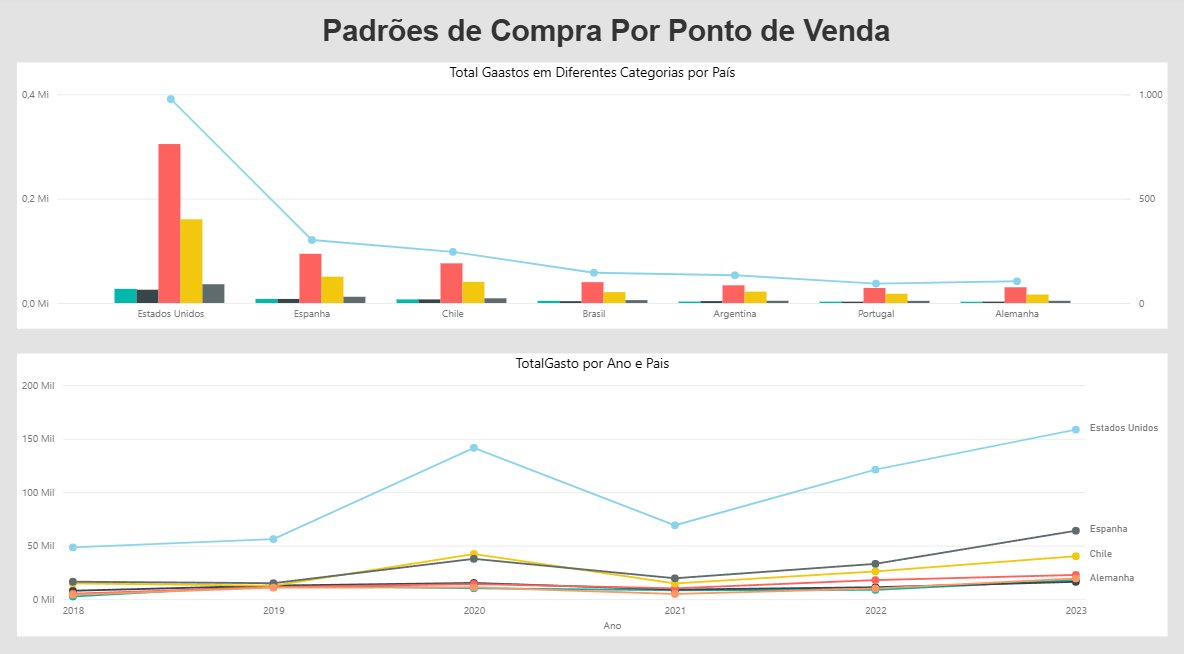

What the dashboard file says about the page in this screenshot:
{"tool":"powerbi","page":{"name":"Visão Ponto de Venda","canvas":[1280,720],"ordinal":3},"visuals":[{"type":"lineClusteredColumnComboChart","title":"Total Gaastos em Diferentes Categorias por País","fields":{"Category":["Dados_Marketing.Pais"],"Y2":["CountNonNull(Dados_Marketing.ID)"],"Y":["Sum(Dados_Marketing.Gasto com Alimentos)","Sum(Dados_Marketing.Gasto com Brinquedos)","Sum(Dados_Marketing.Gasto com Eletronicos)","Sum(Dados_Marketing.Gasto com Moveis)","Sum(Dados_Marketing.Gasto com Utilidades)"]},"box":[19.6,73.2,1241.9,287.3],"z":0},{"type":"lineChart","fields":{"Category":["Dados_Marketing.Data Cadastro.Variation.Hierarquia de datas.Ano"],"Y":["Dados_Marketing.TotalGasto"],"Series":["Dados_Marketing.Pais"]},"box":[19.6,387.2,1241.9,305.1],"z":1000},{"type":"textbox","box":[194.5,14.3,922.5,58.9],"z":2000}]}

Visuals, with their boxes in screenshot pixels (x1, y1, x2, y2), scaled from the page's 1280x720 canvas onto the 1184x654 screenshot:
"Total Gaastos em Diferentes Categorias por País" lineClusteredColumnComboChart: BBox(18, 66, 1167, 327)
lineChart - Dados_Marketing.Data Cadastro.Variation.Hierarquia de datas.Ano x Dados_Marketing.TotalGasto: BBox(18, 352, 1167, 629)
textbox: BBox(180, 13, 1033, 66)
